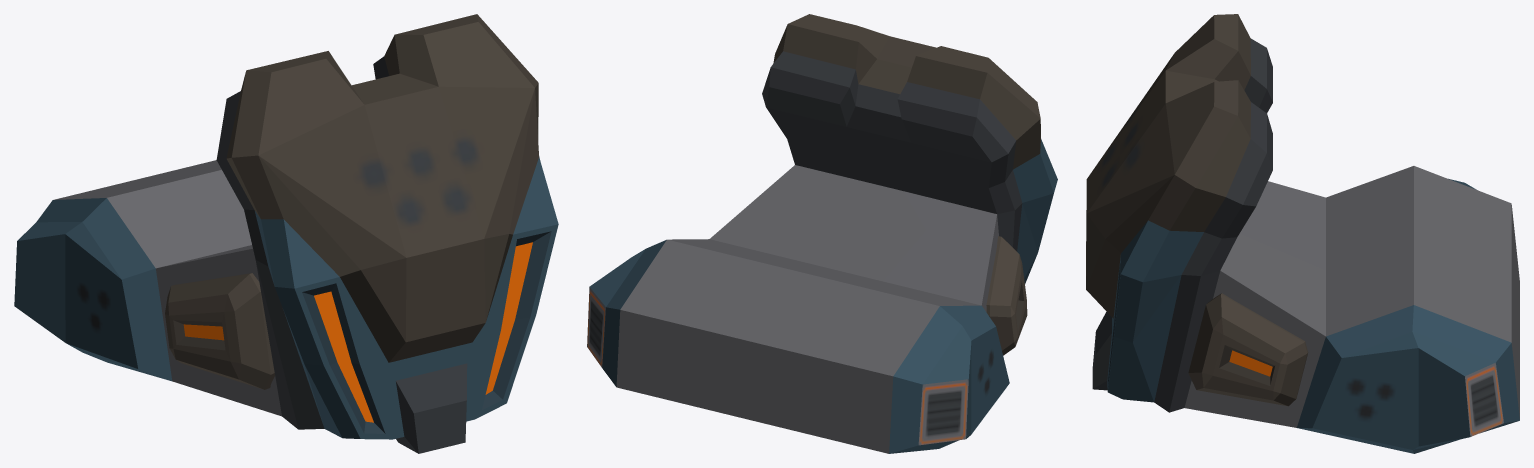
File: SM_Mech_Leg_01_Armor_Kneepad_01.fbx
The picture shows the model from 3 angles, left to right: view 1: azimuth 30°, elevation 25°; view 2: azimuth 150°, elevation 25°; view 3: azimuth 270°, elevation 25°; orthographic projection. The views are drawn at different scales.
Visible parts, largest first — view 1: SM_Mech_Leg_01_Armor_Kneepad_01; view 2: SM_Mech_Leg_01_Armor_Kneepad_01; view 3: SM_Mech_Leg_01_Armor_Kneepad_01.
Boxes of the visible parts, x1=… form: SM_Mech_Leg_01_Armor_Kneepad_01: x1=14, y1=14, x2=558, y2=453; SM_Mech_Leg_01_Armor_Kneepad_01: x1=587, y1=14, x2=1057, y2=453; SM_Mech_Leg_01_Armor_Kneepad_01: x1=1086, y1=14, x2=1519, y2=453.
Bounding box in the file's own units: 63.74 × 49.77 × 60.38.
